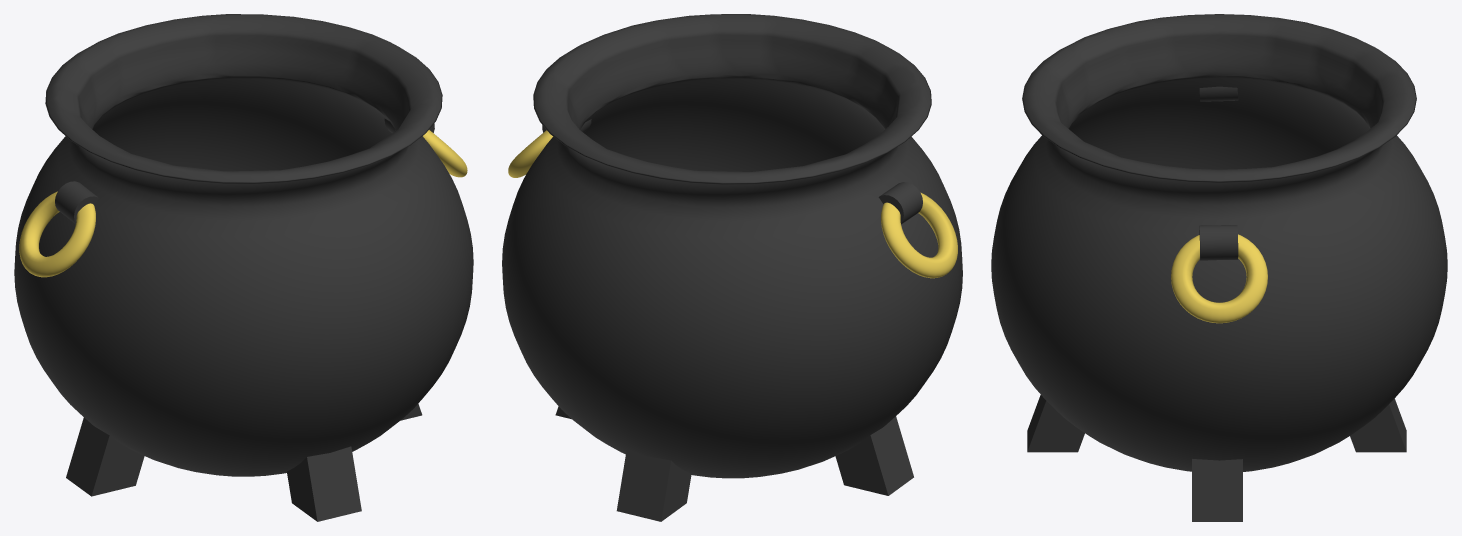
The model's file is Witches_Pot.fbx.
The picture shows the model from 3 angles, left to right: view 1: azimuth 30°, elevation 25°; view 2: azimuth 150°, elevation 25°; view 3: azimuth 270°, elevation 25°; orthographic projection.
Parts seen in each view (by area): view 1: pasted__pasted__pCube4; view 2: pasted__pasted__pCube4; view 3: pasted__pasted__pCube4.
Part boxes in pixels (x1=…): pasted__pasted__pCube4: x1=14, y1=14, x2=473, y2=521; pasted__pasted__pCube4: x1=502, y1=14, x2=962, y2=521; pasted__pasted__pCube4: x1=991, y1=14, x2=1447, y2=521.
Bounding box in the file's own units: 9.02 × 7.18 × 8.33.
